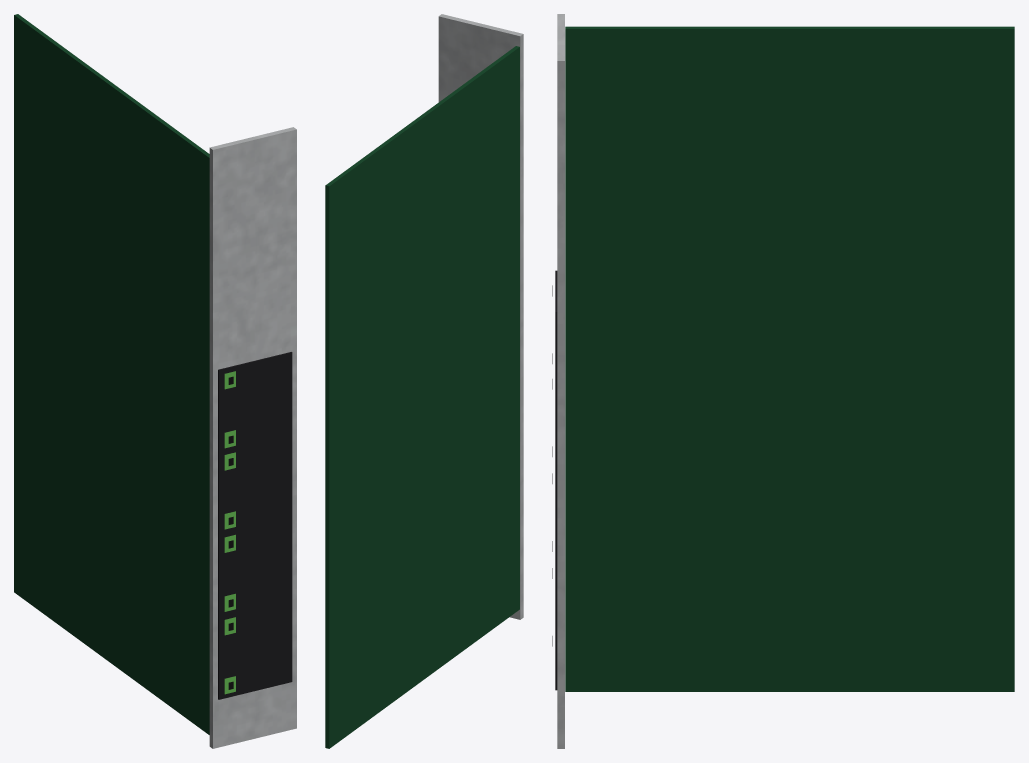
The model's file is I350-T4-FH.far.glb.
The picture shows the model from 3 angles, left to right: view 1: azimuth 30°, elevation 25°; view 2: azimuth 150°, elevation 25°; view 3: azimuth 270°, elevation 25°; orthographic projection. The views are drawn at different scales.
Parts seen in each view (by area): view 1: Card_far; view 2: Card_far; view 3: Card_far.
Part boxes in pixels (x1,y1,x2,y2): Card_far: [14, 14, 296, 748]; Card_far: [325, 14, 523, 748]; Card_far: [555, 14, 1014, 748].
Size of the model in its own units: 0.0146 by 0.0996 by 0.0606.
Materials: 3 (2 with a texture image).
